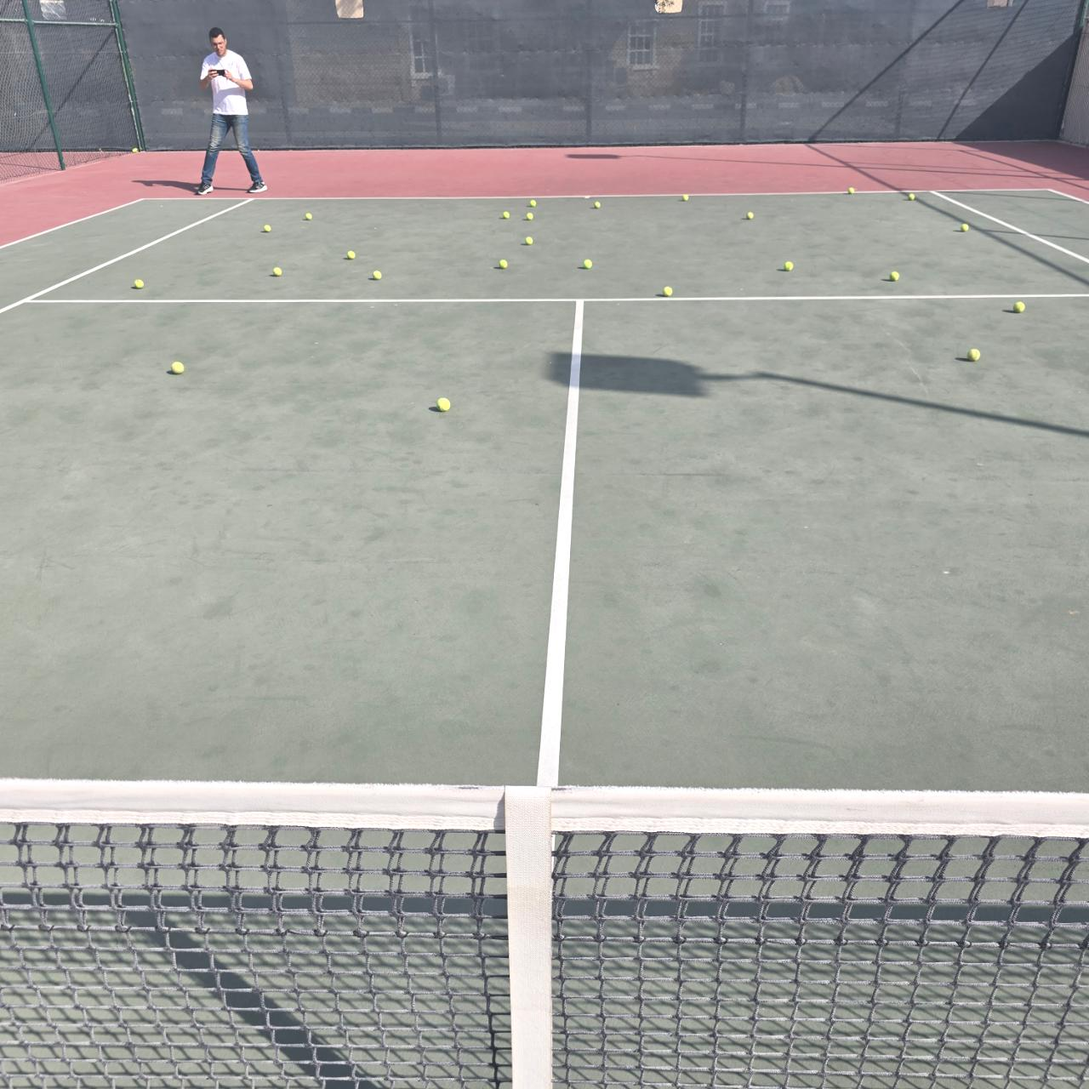tennis-ball: (436, 395, 451, 412), (169, 361, 184, 374), (966, 348, 980, 361), (1012, 299, 1025, 313), (369, 268, 382, 280), (133, 278, 144, 289), (889, 271, 900, 282), (661, 286, 673, 296), (582, 258, 592, 269), (498, 259, 508, 270), (784, 261, 794, 271), (272, 267, 282, 277), (347, 250, 356, 260), (961, 223, 969, 232), (526, 236, 534, 245), (747, 211, 755, 219), (529, 199, 537, 207), (526, 212, 534, 220), (264, 224, 272, 232), (908, 193, 915, 201), (848, 187, 855, 195), (682, 194, 689, 202), (594, 201, 601, 209), (503, 211, 510, 219), (132, 147, 139, 154), (305, 213, 312, 220)
